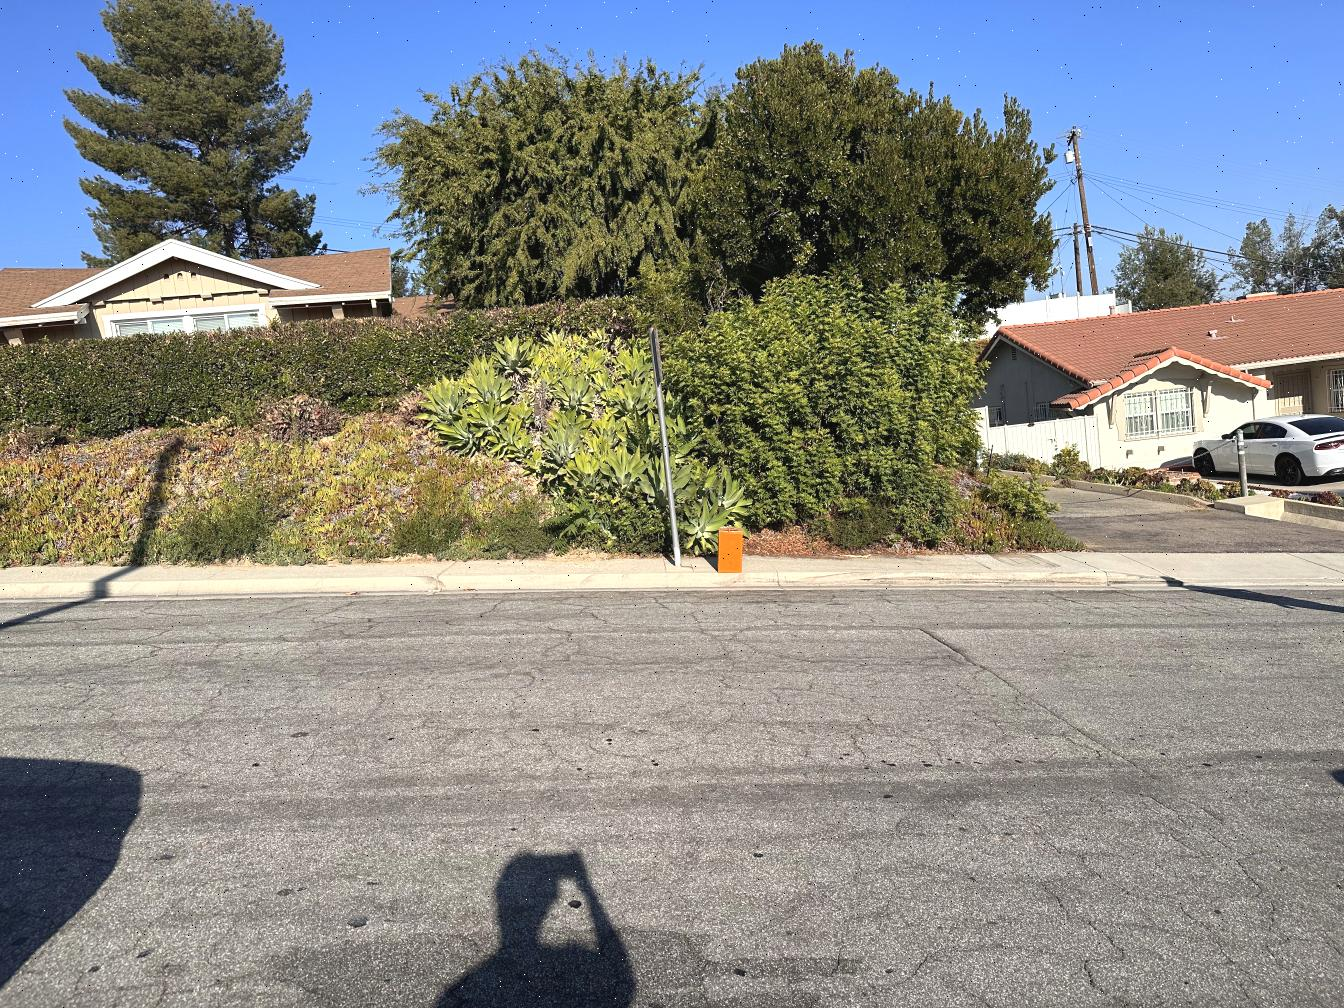curbs-laRr: (480, 572, 1111, 593), (1, 578, 479, 600)
orange box: (718, 526, 743, 572)
